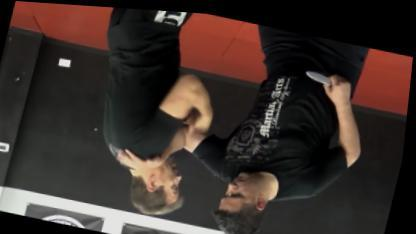knife: (300, 62, 358, 92)
